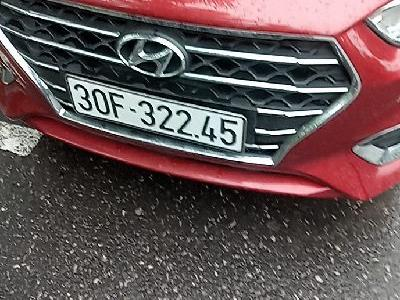lisence: (64, 73, 248, 156)
